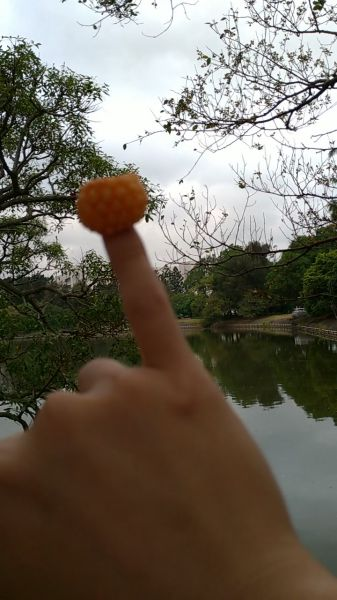eggs: (75, 174, 151, 234)
